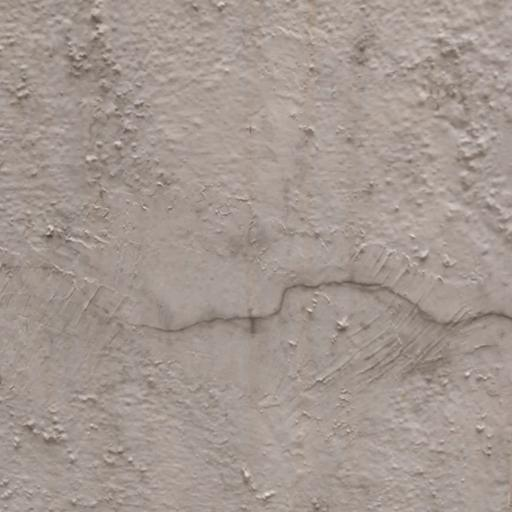minor_crack: (0, 241, 512, 339)
